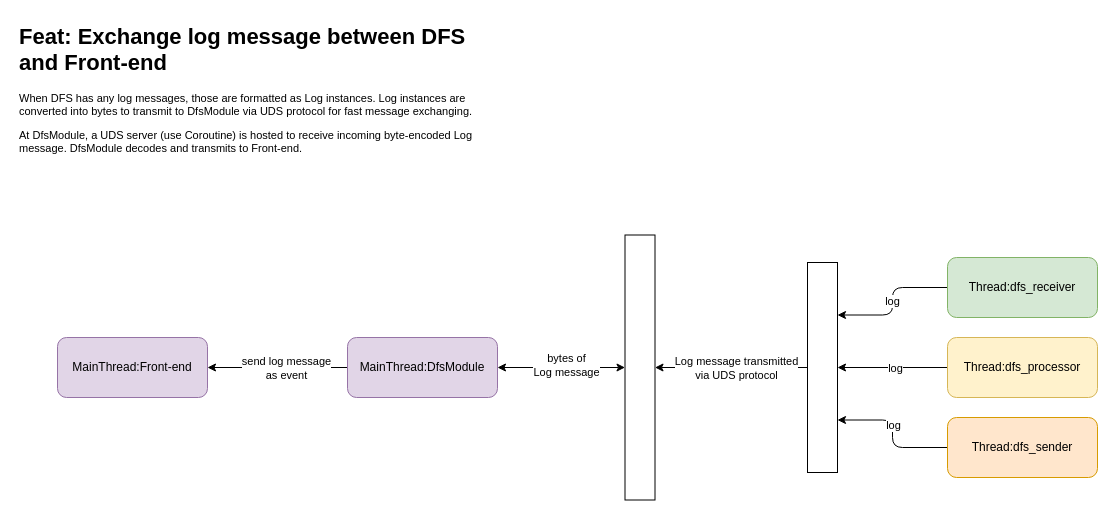
Image size: 1115x517. Some labels were removed from this diagram. The centre of each missing label's shape, as x and y in pixels:
Log builder: (822,367)
UDS protocol (LocalSocket in Android): (639,367)
